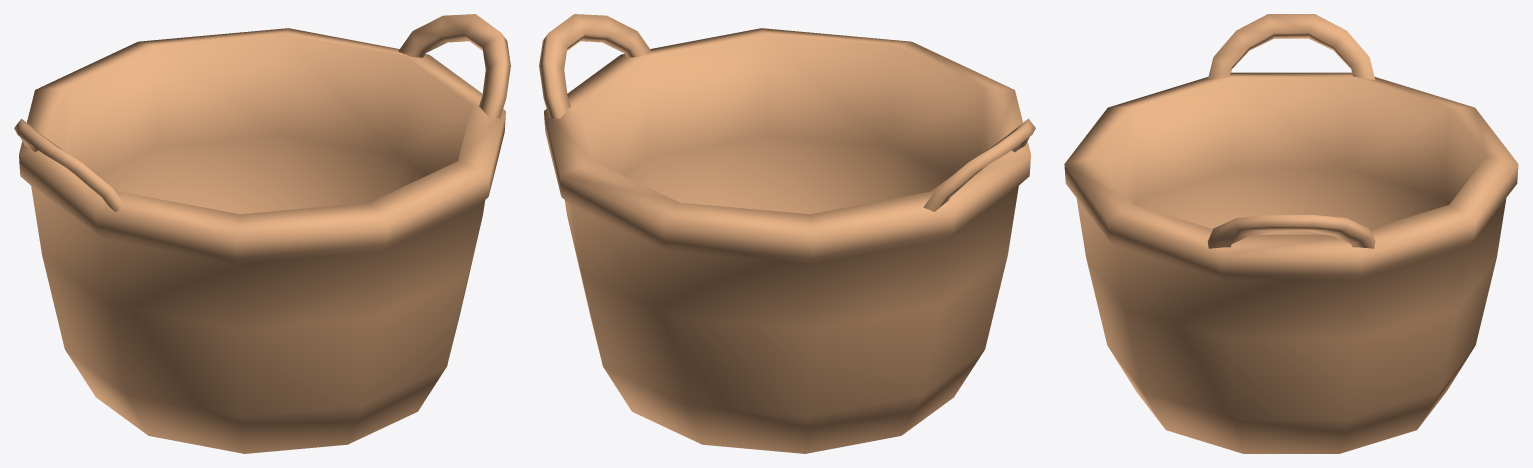
The model's file is Cesta_2.fbx.
3 renders of one model, left to right at view 1: azimuth 30°, elevation 25°; view 2: azimuth 150°, elevation 25°; view 3: azimuth 270°, elevation 25°, orthographic. The views are drawn at different scales.
Parts seen in each view (by area): view 1: Cesta_2; view 2: Cesta_2; view 3: Cesta_2.
Part boxes in pixels (x1=…): Cesta_2: x1=14, y1=14, x2=510, y2=453; Cesta_2: x1=539, y1=14, x2=1035, y2=453; Cesta_2: x1=1064, y1=14, x2=1518, y2=453.
Size of the model in its own units: 0.5105 by 0.5488 by 0.3436.
